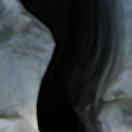broken_brick: (109, 97, 131, 131), (0, 115, 25, 122), (0, 120, 14, 130)
crack: (0, 0, 130, 131)
